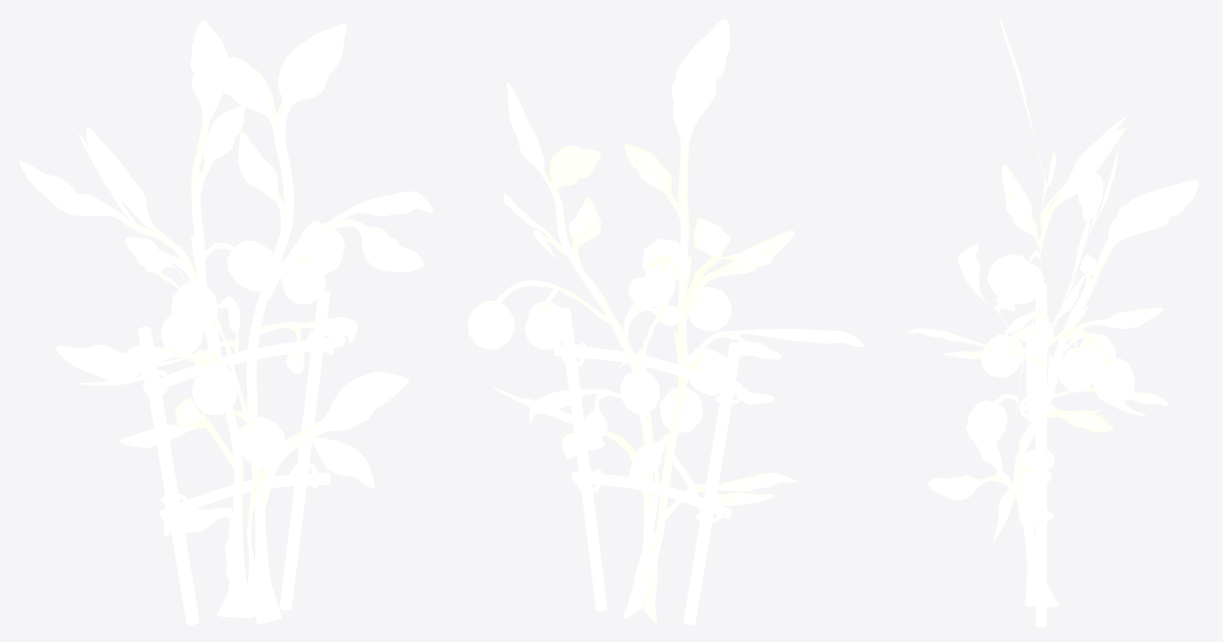
3 renders of one model, left to right at view 1: azimuth 30°, elevation 25°; view 2: azimuth 150°, elevation 25°; view 3: azimuth 270°, elevation 25°, orthographic. The views are drawn at different scales.
Parts seen in each view (by area): view 1: SM_Tomato_01_LOD0; view 2: SM_Tomato_01_LOD0; view 3: SM_Tomato_01_LOD0.
Part boxes in pixels (x1,y1,x2,y2): SM_Tomato_01_LOD0: (19, 20, 433, 625); SM_Tomato_01_LOD0: (467, 19, 864, 625); SM_Tomato_01_LOD0: (907, 17, 1198, 627).
Size of the model in its own units: 0.9477 by 1.53 by 0.7494.
Materials: 1 (1 with a texture image).
